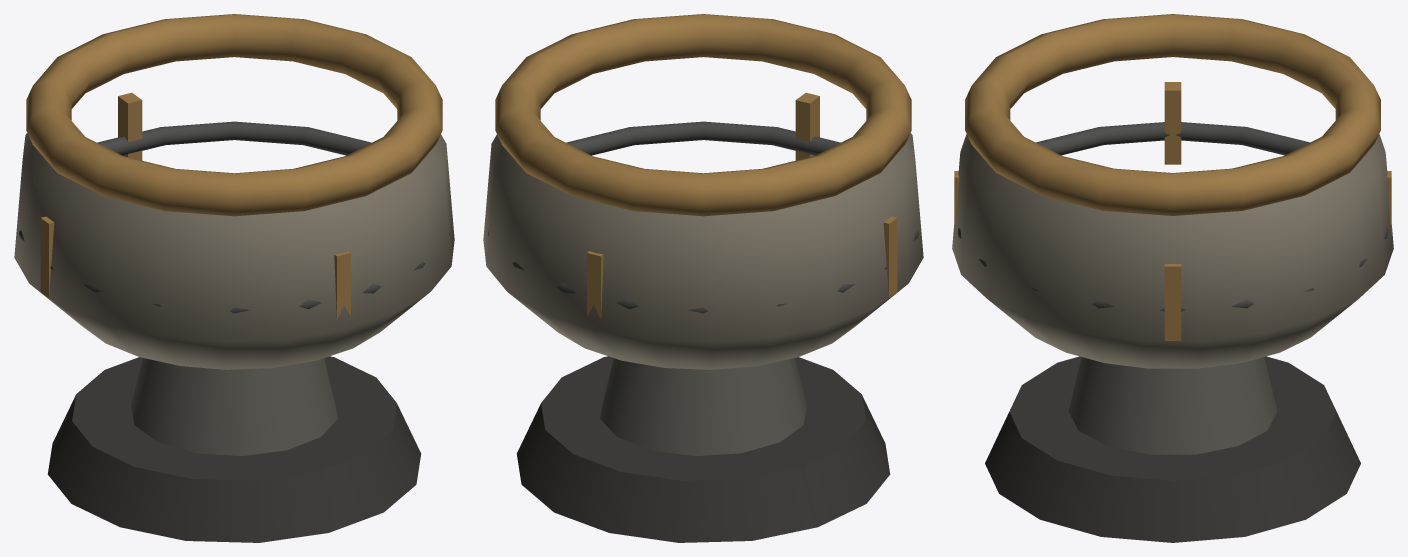
Rendered from sk_offering_bowl.glb.
3 renders of one model, left to right at view 1: azimuth 30°, elevation 25°; view 2: azimuth 150°, elevation 25°; view 3: azimuth 270°, elevation 25°, orthographic.
Visible parts, largest first — view 1: stone, metal; view 2: stone, metal; view 3: stone, metal.
Boxes of the visible parts, bbox=[...] form: stone: bbox=[14, 133, 454, 542]; metal: bbox=[19, 14, 449, 319]; stone: bbox=[483, 133, 923, 542]; metal: bbox=[488, 14, 918, 319]; stone: bbox=[952, 134, 1393, 542]; metal: bbox=[954, 14, 1391, 340].
Bounding box in the file's own units: 0.535 × 0.498 × 0.54.
